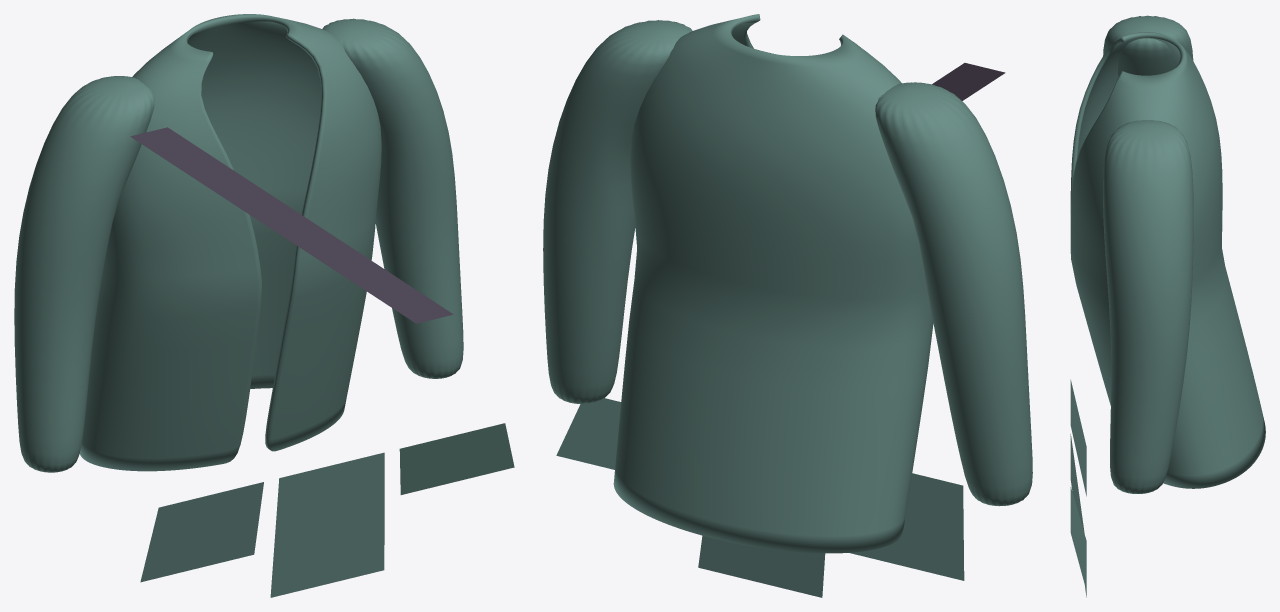
File: child_party.glb
The picture shows the model from 3 angles, left to right: view 1: azimuth 30°, elevation 25°; view 2: azimuth 150°, elevation 25°; view 3: azimuth 270°, elevation 25°; orthographic projection. The views are drawn at different scales.
Parts seen in each view (by area): view 1: Outfit_Party_Wrap, Outfit_Party_Sleeve, Outfit_Party_Sleeve.001, Outfit_Party_Hem.001, Outfit_Party_Sash, Outfit_Party_Hem, Outfit_Party_Hem.002; view 2: Outfit_Party_Wrap, Outfit_Party_Sleeve, Outfit_Party_Sleeve.001, Outfit_Party_Hem, Outfit_Party_Hem.001, Outfit_Party_Hem.002, Outfit_Party_Sash; view 3: Outfit_Party_Wrap, Outfit_Party_Sleeve.001, Outfit_Party_Sleeve, Outfit_Party_Hem, Outfit_Party_Hem.002, Outfit_Party_Hem.001.
Part boxes in pixels (x1,y1,x2,y2): Outfit_Party_Wrap: (79, 14, 381, 471); Outfit_Party_Sleeve: (14, 76, 154, 472); Outfit_Party_Sleeve.001: (322, 18, 463, 378); Outfit_Party_Hem.001: (270, 452, 384, 597); Outfit_Party_Sash: (130, 127, 453, 323); Outfit_Party_Hem: (140, 482, 263, 582); Outfit_Party_Hem.002: (399, 423, 514, 494); Outfit_Party_Wrap: (613, 14, 933, 553); Outfit_Party_Sleeve: (875, 82, 1032, 506); Outfit_Party_Sleeve.001: (543, 20, 692, 403); Outfit_Party_Hem: (849, 473, 964, 580); Outfit_Party_Hem.001: (698, 535, 825, 597); Outfit_Party_Hem.002: (556, 398, 621, 469); Outfit_Party_Sash: (932, 63, 1005, 100); Outfit_Party_Wrap: (1070, 32, 1265, 488); Outfit_Party_Sleeve.001: (1103, 120, 1193, 493); Outfit_Party_Sleeve: (1103, 15, 1193, 76); Outfit_Party_Hem: (1070, 379, 1086, 496); Outfit_Party_Hem.002: (1070, 487, 1086, 590); Outfit_Party_Hem.001: (1070, 434, 1086, 597).
Bounding box in the file's own units: 0.4316 × 0.4828 × 0.1816.
